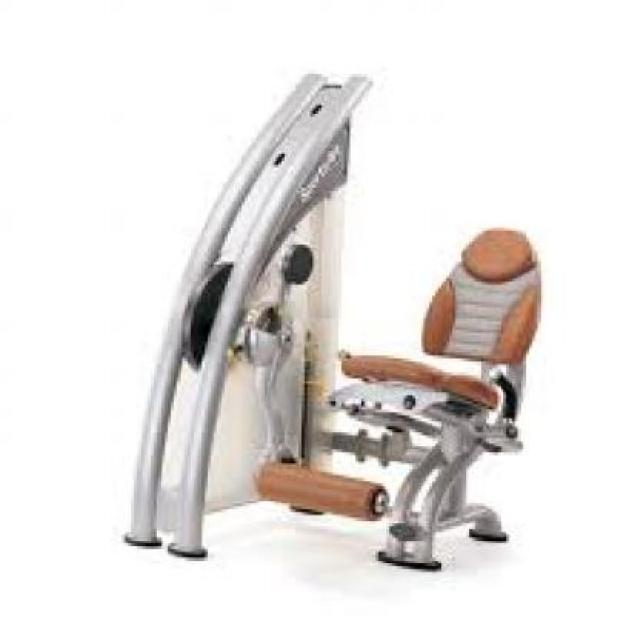leg extension: (112, 57, 538, 600)
